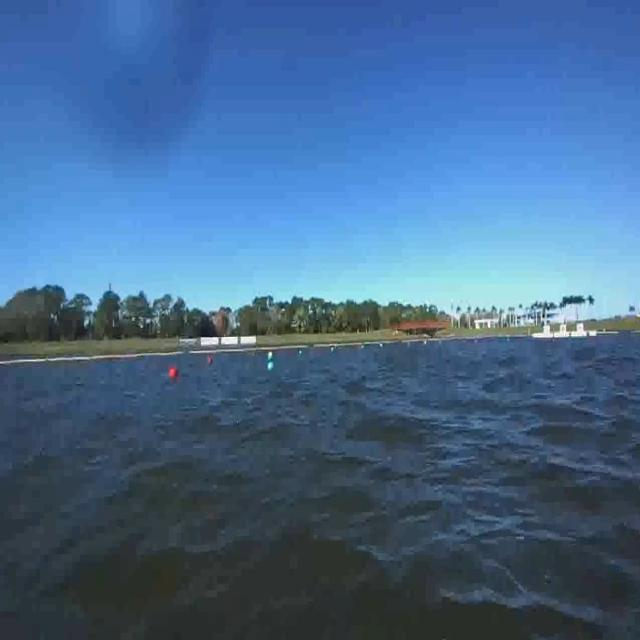green-buoy: (267, 358, 276, 372)
red-buoy: (170, 365, 178, 378)
